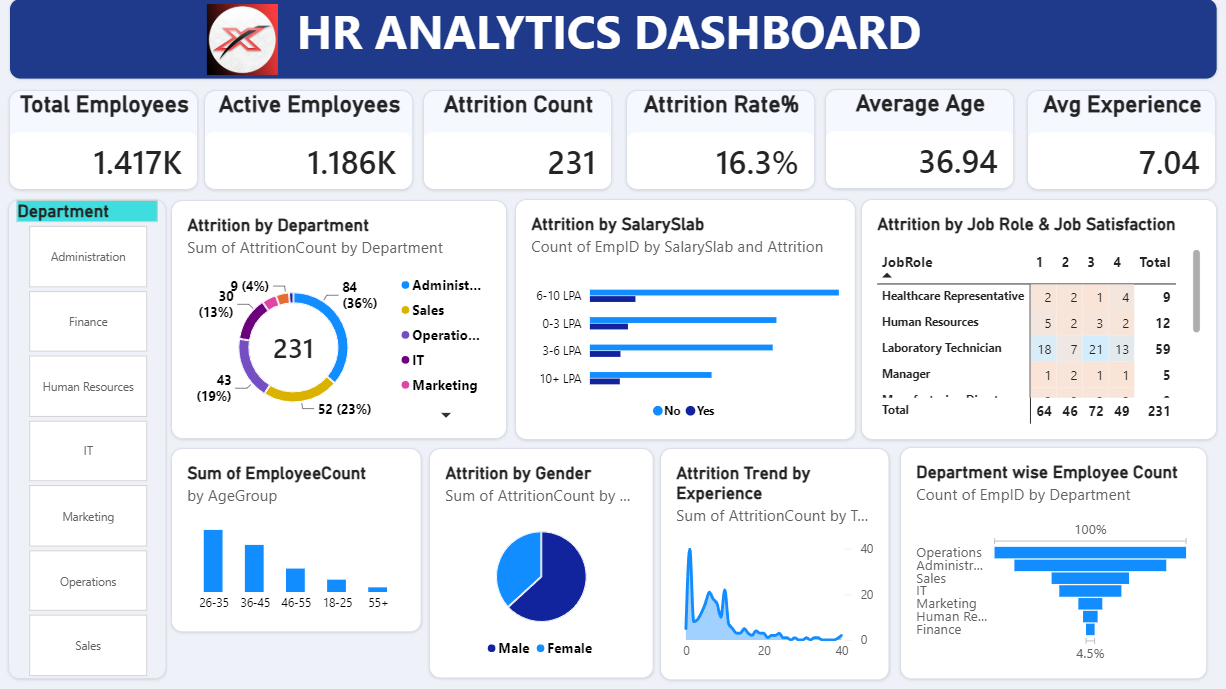

What the dashboard file says about the page in this screenshot:
{"tool":"powerbi","page":{"name":"Page 1","canvas":[1280,720],"ordinal":0},"visuals":[{"type":"textbox","box":[10,0,1259,85],"z":0},{"type":"image","box":[214,5.8,80.7,73.9],"z":1000},{"type":"cardVisual","title":"Total Employees","fields":{"Data":["CountNonNull(HR_Analytics-4.EmpID)"]},"box":[10,95.3,197,104],"z":2000},{"type":"cardVisual","title":"Active Employees","fields":{"Data":["CountNonNull(HR_Analytics-4.EmployeeCount)"]},"box":[214,95.3,217.9,104.1],"z":3000},{"type":"cardVisual","title":"Attrition Count","fields":{"Data":["Sum(HR_Analytics-4.AttritionCount)"]},"box":[441.6,95.3,197,104],"z":4000},{"type":"cardVisual","title":"Attrition Rate%","fields":{"Data":["HR_Analytics-4.Attrition Rate %"]},"box":[653.6,95.3,197,104],"z":5000},{"type":"cardVisual","title":"Average Age","fields":{"Data":["Avg(HR_Analytics-4.Age)"]},"box":[860.8,94.3,197,104],"z":6000},{"type":"cardVisual","title":"Avg Experience","fields":{"Data":["Avg(HR_Analytics-4.YearsatCompany)"]},"box":[1070.9,95.3,197,104],"z":7000},{"type":"donutChart","title":"Attrition by Department","fields":{"Category":["HR_Analytics-4.Department"],"Y":["Sum(HR_Analytics-4.AttritionCount)"]},"box":[179,210,350,249],"z":8000},{"type":"clusteredBarChart","title":"Attrition by SalarySlab","fields":{"Category":["HR_Analytics-4.SalarySlab"],"Series":["HR_Analytics-4.Attrition"],"Y":["CountNonNull(HR_Analytics-4.EmpID)"]},"box":[537,209,355,251],"z":9000},{"type":"pivotTable","title":"Attrition by Job Role & Job Satisfaction","fields":{"Columns":["HR_Analytics-4.JobSatisfaction"],"Rows":["HR_Analytics-4.JobRole"],"Values":["Sum(HR_Analytics-4.AttritionCount)"]},"box":[898,209,371,251],"z":10000},{"type":"columnChart","fields":{"Category":["HR_Analytics-4.AgeGroup"],"Y":["Sum(HR_Analytics-4.EmployeeCount)"]},"box":[179,469,261,192],"z":11000},{"type":"pieChart","title":"Attrition by Gender","fields":{"Category":["HR_Analytics-4.Gender"],"Y":["Sum(HR_Analytics-4.AttritionCount)"]},"box":[448,469,234,240],"z":12000},{"type":"areaChart","title":"Attrition Trend by Experience","fields":{"Category":["HR_Analytics-4.TotalExperience(Years)"],"Y2":["Sum(HR_Analytics-4.AttritionCount)"]},"box":[689,469,239,242],"z":13000},{"type":"funnel","title":"Department wise Employee Count","fields":{"Category":["HR_Analytics-4.Department"],"Y":["CountNonNull(HR_Analytics-4.EmpID)"]},"box":[938.6,467.8,320,242],"z":14000},{"type":"slicer","fields":{"Values":["HR_Analytics-4.Department"]},"box":[9.7,209.1,165,500],"z":15000}]}

Visuals, with their boxes in screenshot pixels (x1, y1, x2, y2), scaled from the page's 1280x720 canvas onto the 1226x689 screenshot:
textbox: [x1=10, y1=0, x2=1215, y2=81]
image: [x1=205, y1=6, x2=282, y2=76]
"Total Employees" cardVisual: [x1=10, y1=91, x2=198, y2=191]
"Active Employees" cardVisual: [x1=205, y1=91, x2=414, y2=191]
"Attrition Count" cardVisual: [x1=423, y1=91, x2=612, y2=191]
"Attrition Rate%" cardVisual: [x1=626, y1=91, x2=815, y2=191]
"Average Age" cardVisual: [x1=824, y1=90, x2=1013, y2=190]
"Avg Experience" cardVisual: [x1=1026, y1=91, x2=1214, y2=191]
"Attrition by Department" donutChart: [x1=171, y1=201, x2=507, y2=439]
"Attrition by SalarySlab" clusteredBarChart: [x1=514, y1=200, x2=854, y2=440]
"Attrition by Job Role & Job Satisfaction" pivotTable: [x1=860, y1=200, x2=1215, y2=440]
columnChart - HR_Analytics-4.AgeGroup x Sum(HR_Analytics-4.EmployeeCount): [x1=171, y1=449, x2=421, y2=633]
"Attrition by Gender" pieChart: [x1=429, y1=449, x2=653, y2=678]
"Attrition Trend by Experience" areaChart: [x1=660, y1=449, x2=889, y2=680]
"Department wise Employee Count" funnel: [x1=899, y1=448, x2=1206, y2=679]
slicer - HR_Analytics-4.Department: [x1=9, y1=200, x2=167, y2=679]
